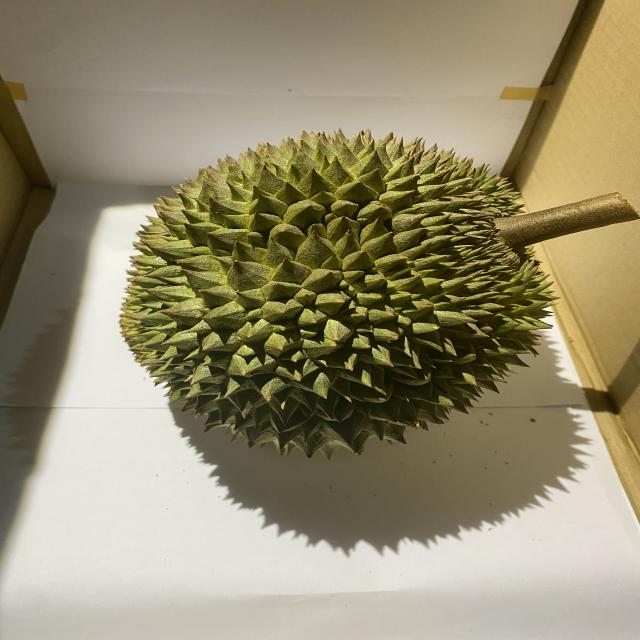immature: (117, 124, 562, 462)
